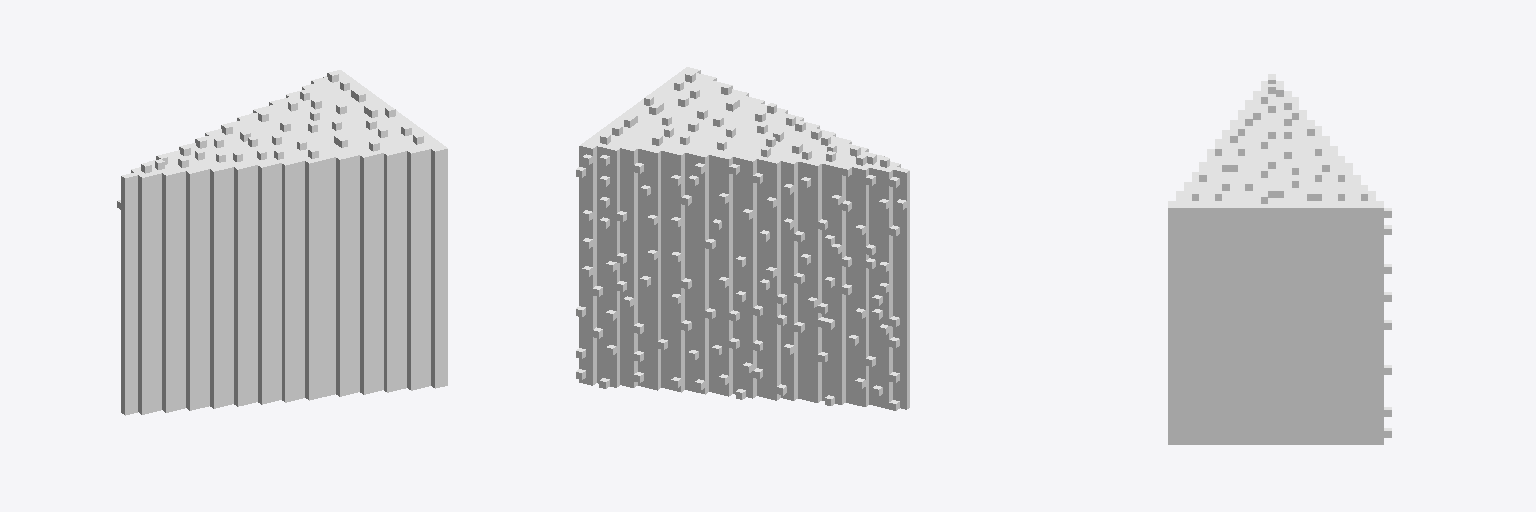
File: Eruption-48.obj
The picture shows the model from 3 angles: view 1: azimuth 30°, elevation 25°; view 2: azimuth 150°, elevation 25°; view 3: azimuth 270°, elevation 25°; orthographic projection.
Visible parts, largest first — view 1: object 1; view 2: object 1; view 3: object 1.
Boxes of the visible parts, x1,y1,x2,y2 form: object 1: [117, 70, 447, 415]; object 1: [576, 67, 909, 410]; object 1: [1168, 74, 1391, 444].
Bounding box in the file's own units: 4.1 × 3.5 × 2.9.